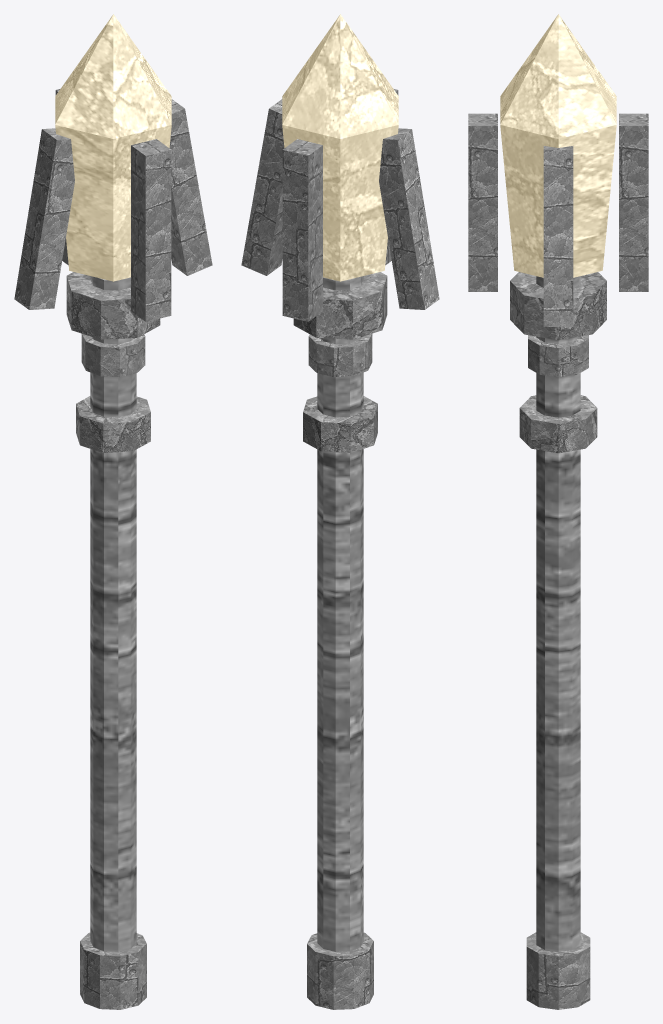
Rendered from Magenheim_Staff_Earth_Crystal.glb.
The picture shows the model from 3 angles, left to right: view 1: azimuth 30°, elevation 25°; view 2: azimuth 150°, elevation 25°; view 3: azimuth 270°, elevation 25°; orthographic projection.
Parts seen in each view (by area): view 1: shaft, fault-focus, brace-1, brace-2, brace-0, pommel, upper-stone-band, lower-stone-band, neck; view 2: shaft, fault-focus, brace-3, brace-2, brace-0, pommel, upper-stone-band, lower-stone-band, neck; view 3: shaft, fault-focus, brace-0, brace-1, brace-3, upper-stone-band, pommel, lower-stone-band, neck.
Boxes of the visible parts, box(x1,y1,x2,y2) form: shaft: box(90, 276, 136, 951); fault-focus: box(55, 14, 171, 281); brace-1: box(131, 139, 171, 321); brace-2: box(14, 128, 74, 309); brace-0: box(169, 99, 212, 275); pommel: box(80, 932, 146, 1009); upper-stone-band: box(66, 272, 160, 339); lower-stone-band: box(76, 396, 150, 452); neck: box(81, 334, 145, 377); shaft: box(317, 276, 363, 951); fault-focus: box(282, 14, 398, 281); brace-3: box(282, 139, 322, 321); brace-2: box(379, 128, 439, 309); brace-0: box(241, 99, 284, 275); pommel: box(307, 932, 373, 1009); upper-stone-band: box(293, 272, 387, 339); lower-stone-band: box(303, 396, 377, 452); neck: box(308, 334, 372, 377); shaft: box(536, 276, 580, 951); fault-focus: box(500, 14, 616, 277); brace-0: box(543, 146, 573, 326); brace-1: box(468, 113, 497, 291); brace-3: box(619, 113, 648, 291); upper-stone-band: box(510, 272, 606, 340); pommel: box(526, 932, 590, 1009); lower-stone-band: box(519, 395, 597, 453); neck: box(528, 335, 588, 377).
Bounding box in the file's own units: 0.3932 × 2.01 × 0.335.
Materials: 4 (4 with a texture image).
